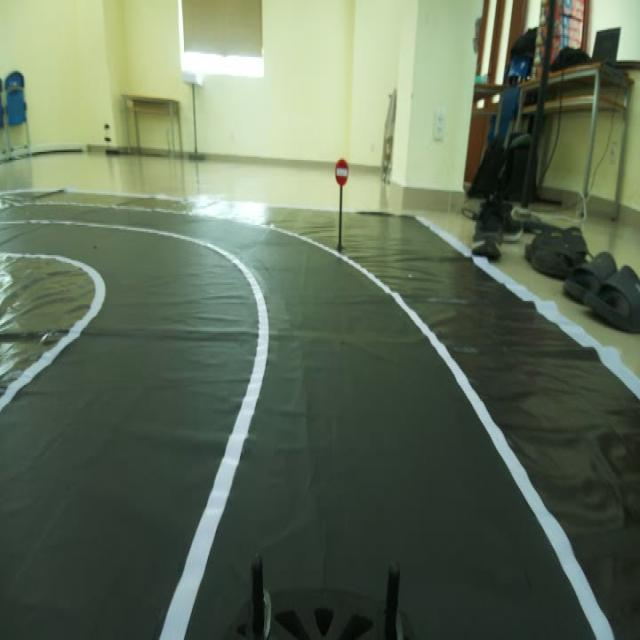no_entry: (335, 156, 349, 193)
